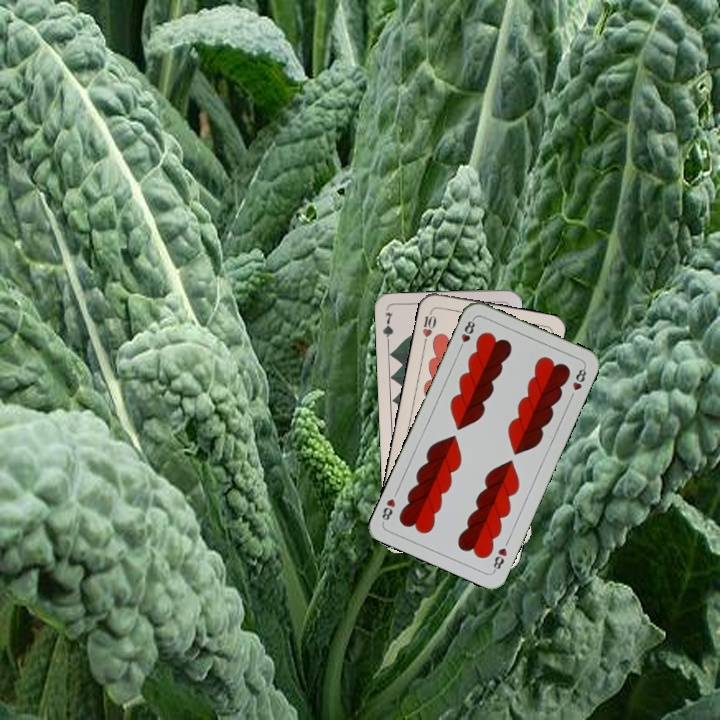G7: (379, 308, 396, 349)
H10: (418, 306, 439, 346)
H8: (455, 314, 478, 353), (489, 543, 510, 574)
